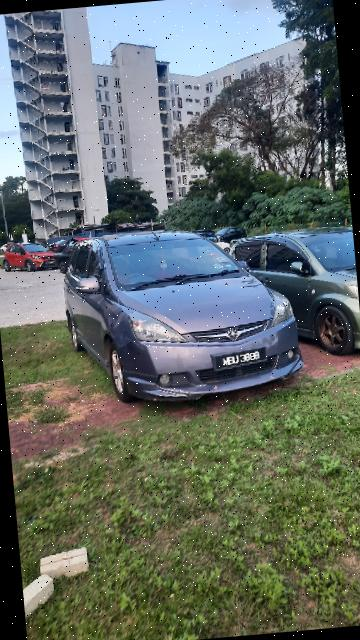License_Plate: (212, 349, 272, 374)
car: (59, 218, 313, 435)
